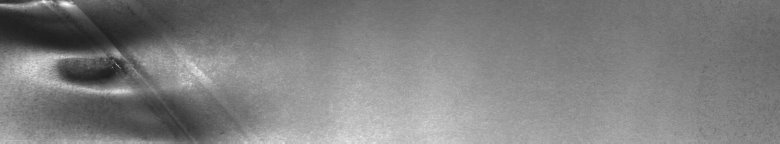ke: (4, 4, 144, 104)
